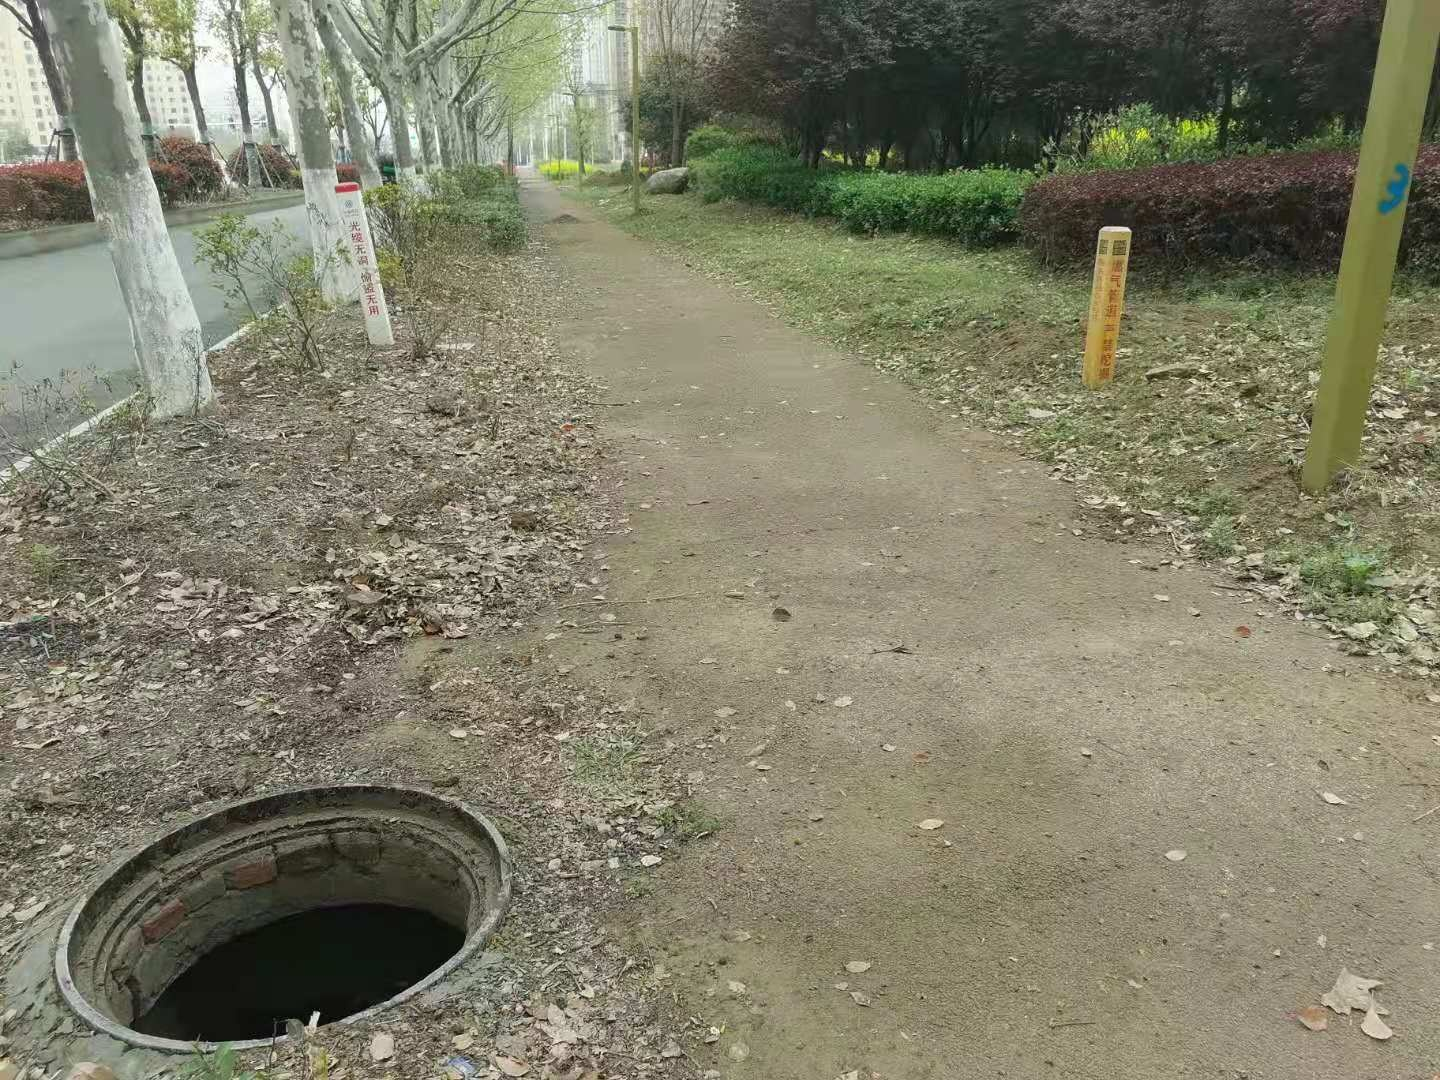lose: (51, 776, 519, 1048)
